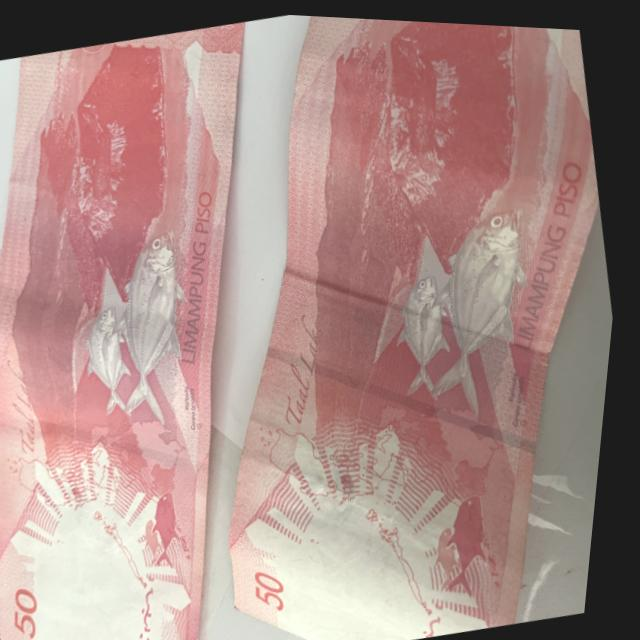50_maliputo: (363, 181, 567, 421), (50, 215, 228, 439)
50_maliputo_watermark: (421, 480, 520, 607), (134, 474, 216, 582)
